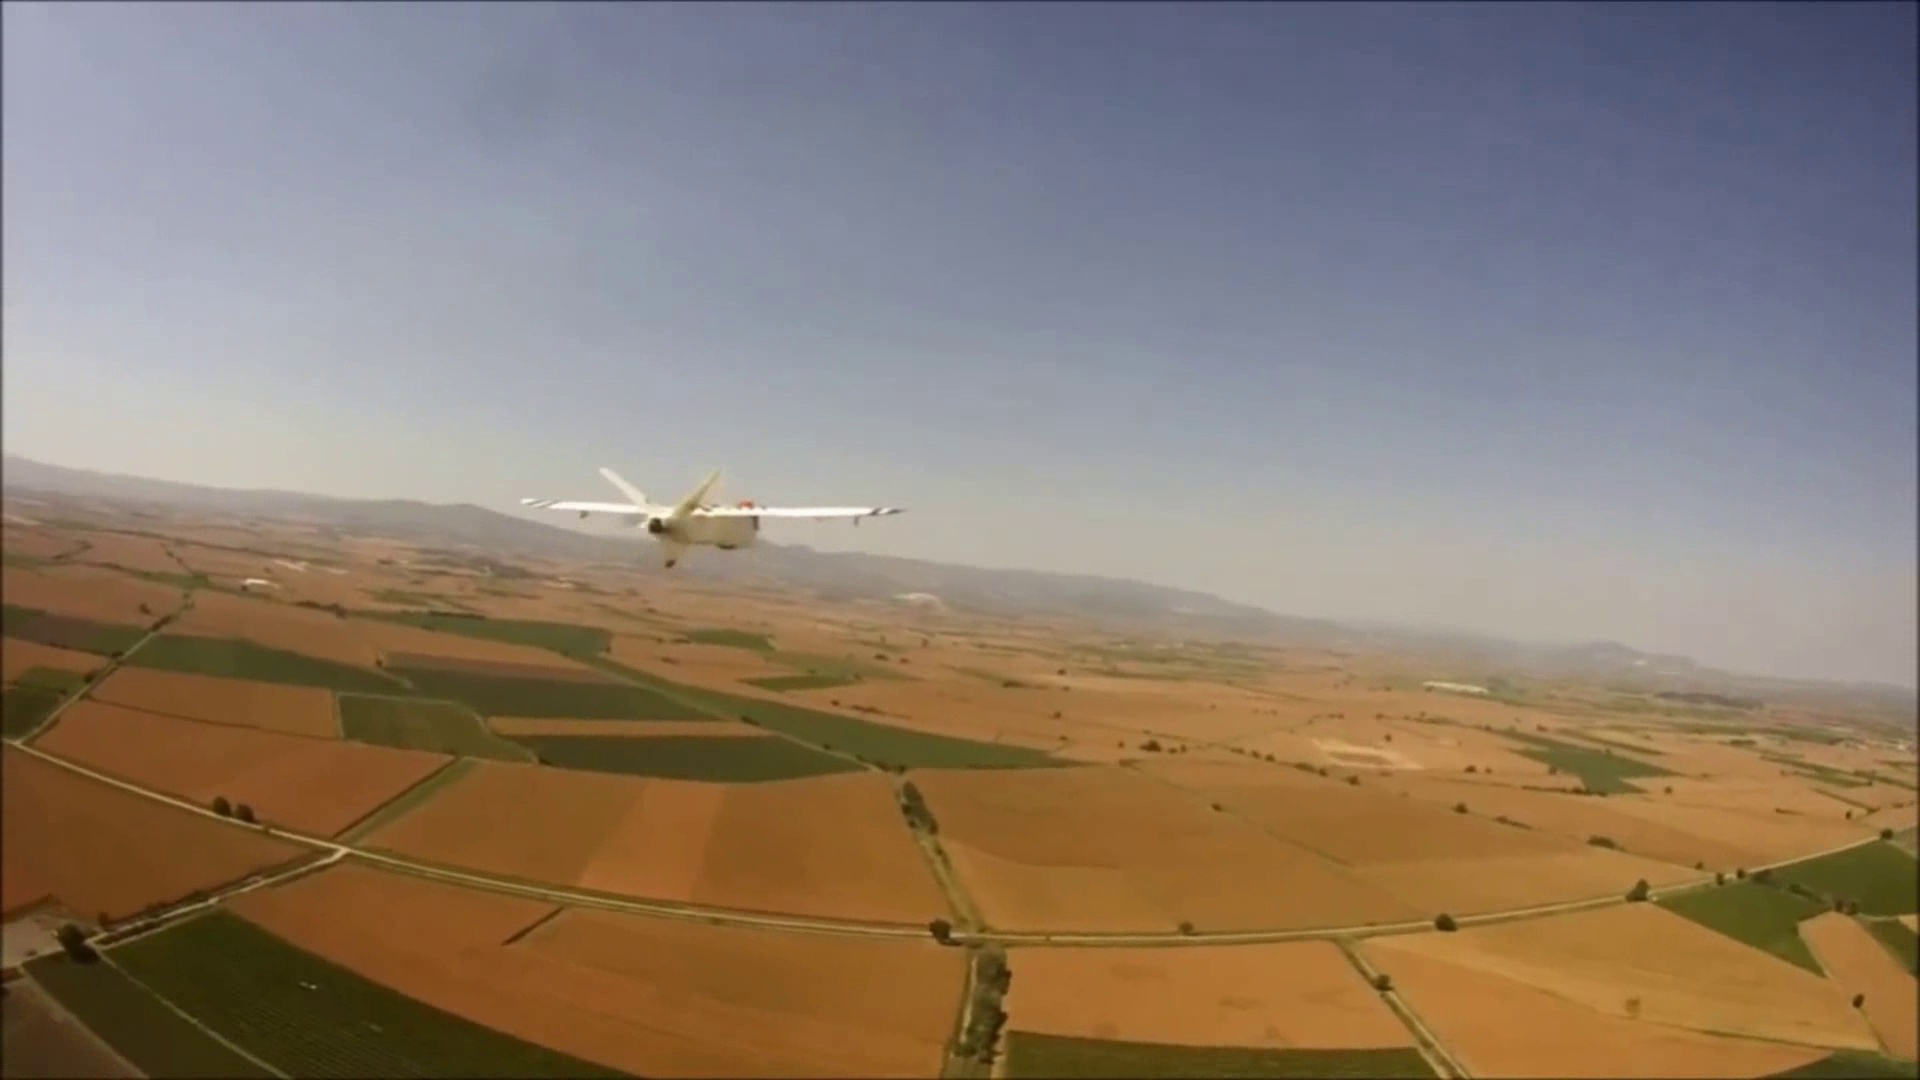airplane: (516, 459, 905, 568)
